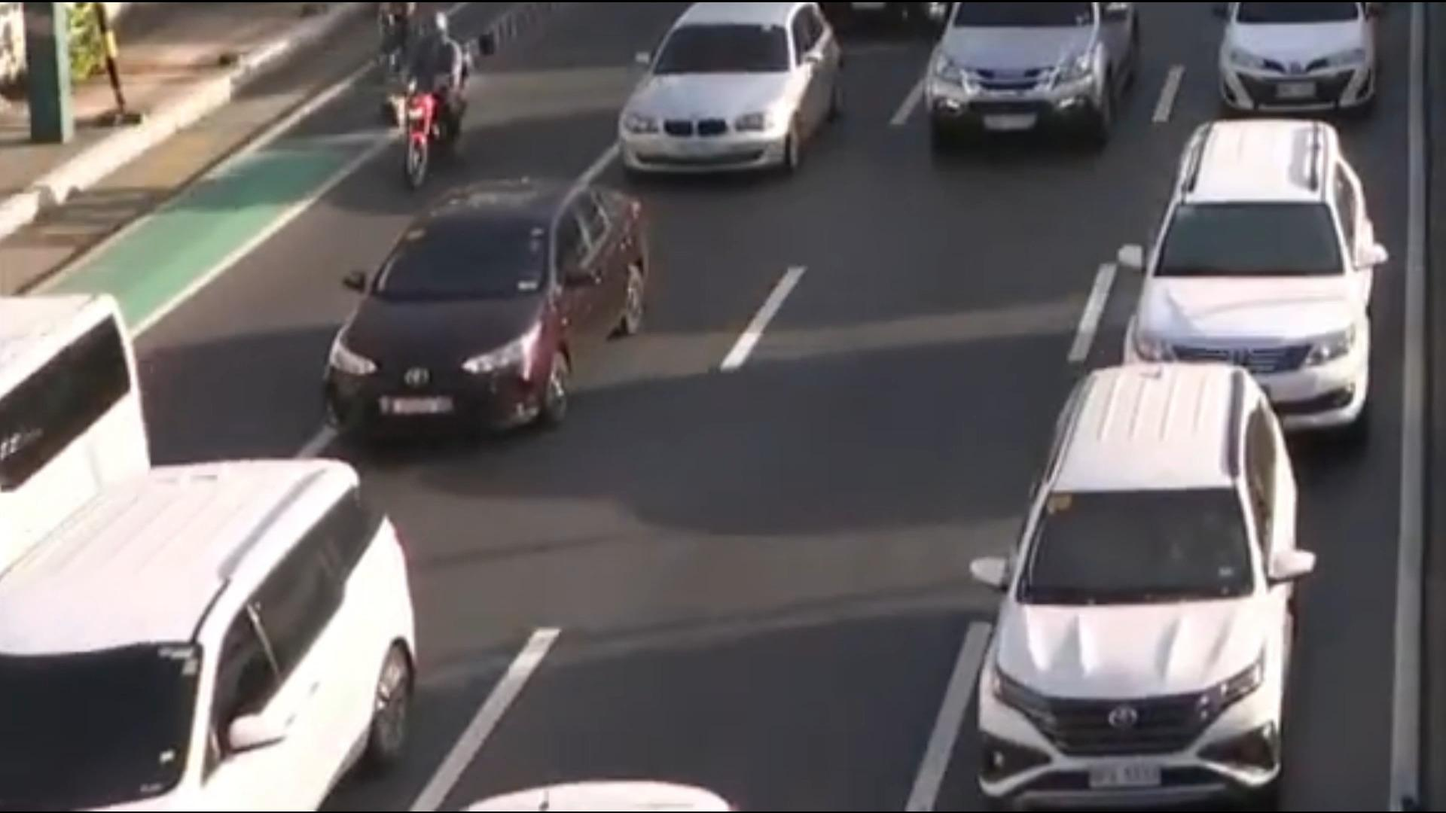Motorcycle: (379, 15, 478, 184)
SUV: (958, 359, 1309, 813), (0, 454, 418, 813), (1118, 111, 1384, 418), (920, 1, 1149, 150)
Sedan: (319, 183, 653, 437), (616, 0, 845, 179)
